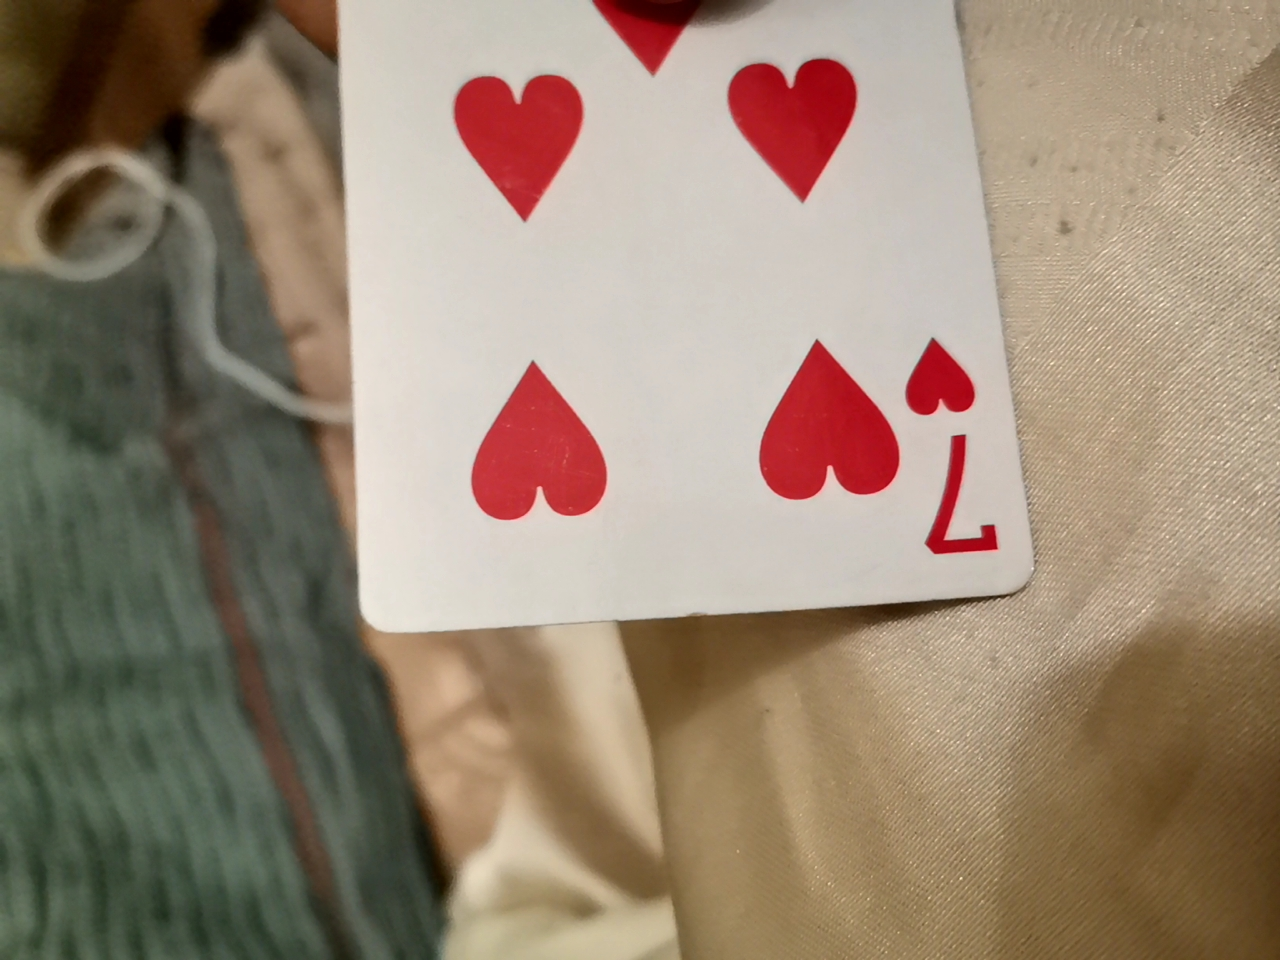hx 7: (311, 0, 1024, 648)
